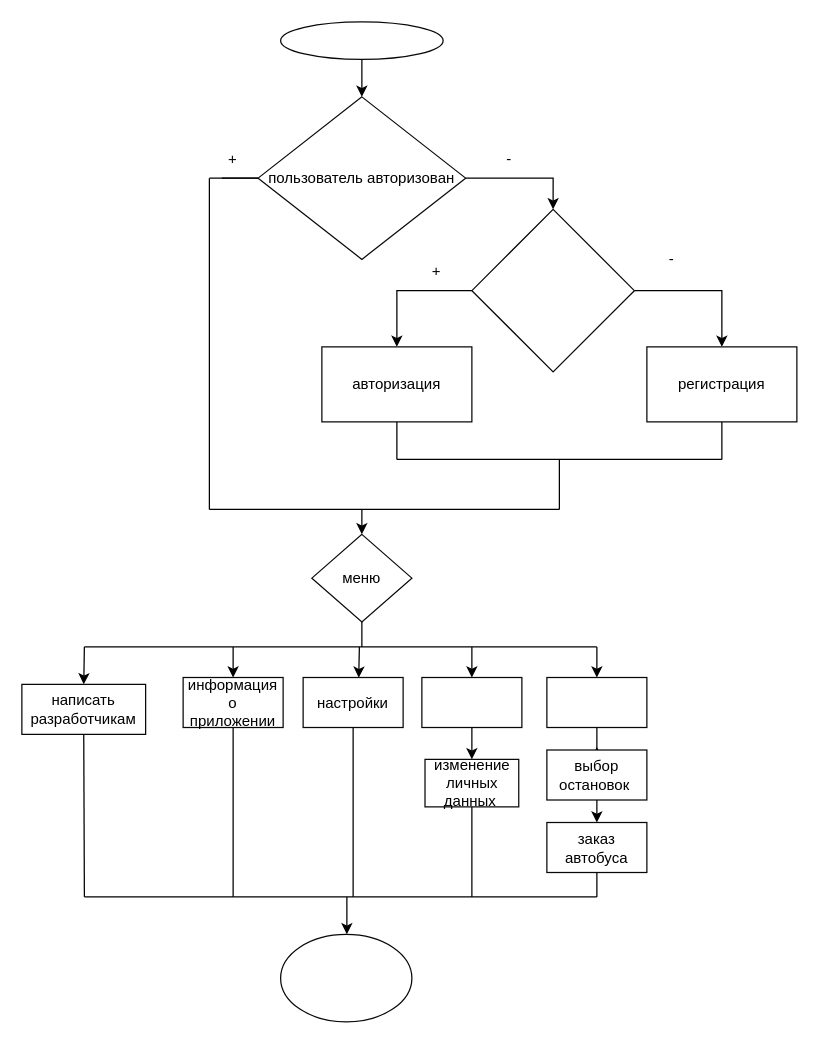
This 819x1044 diagram has some shape labels left out. Here are the shapes that lost their labels. From the top down, the centre of each, then its label:
the point at 361,40: Начало
the point at 552,290: пользователь зарегестривован
the point at 471,702: аккаунт
the point at 596,702: карта
the point at 345,977: конец
